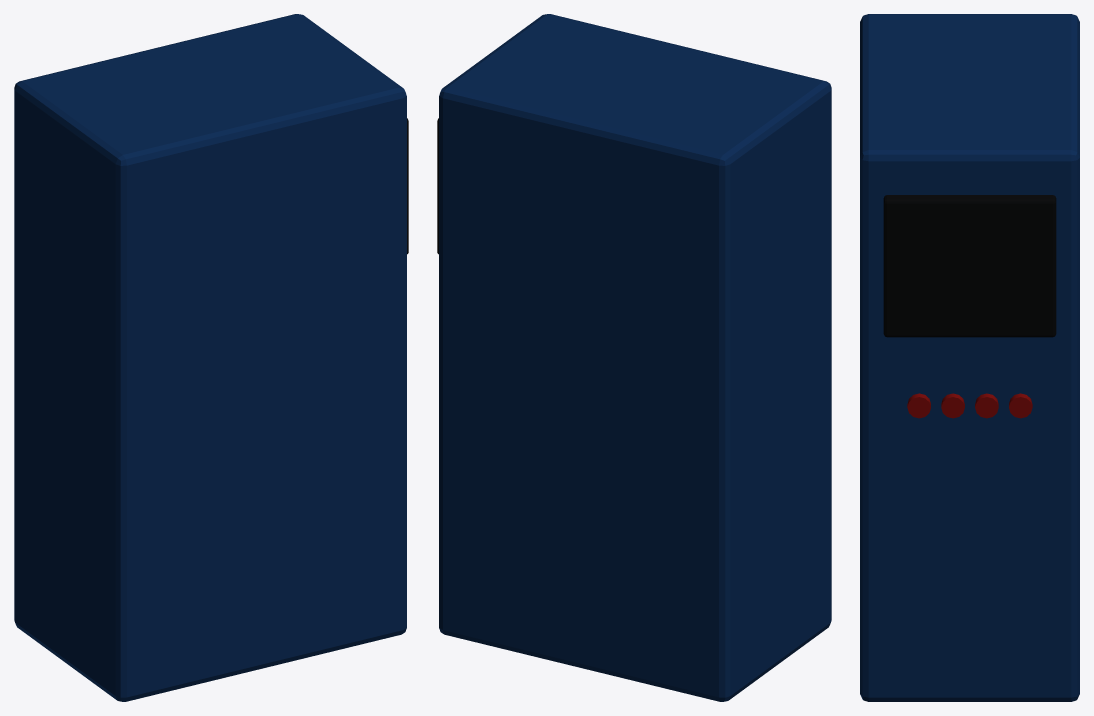
Rendered from FactoryControl.fbx.
3 renders of one model, left to right at view 1: azimuth 30°, elevation 25°; view 2: azimuth 150°, elevation 25°; view 3: azimuth 270°, elevation 25°, orthographic.
Visible parts, largest first — view 1: FactoryControl; view 2: FactoryControl; view 3: FactoryControl.
Part boxes in pixels (left/top/right/bottom): FactoryControl: left=14, top=14, right=408, bottom=701; FactoryControl: left=437, top=14, right=831, bottom=701; FactoryControl: left=860, top=14, right=1079, bottom=701.
Bounding box in the file's own units: 106 × 65 × 180.
